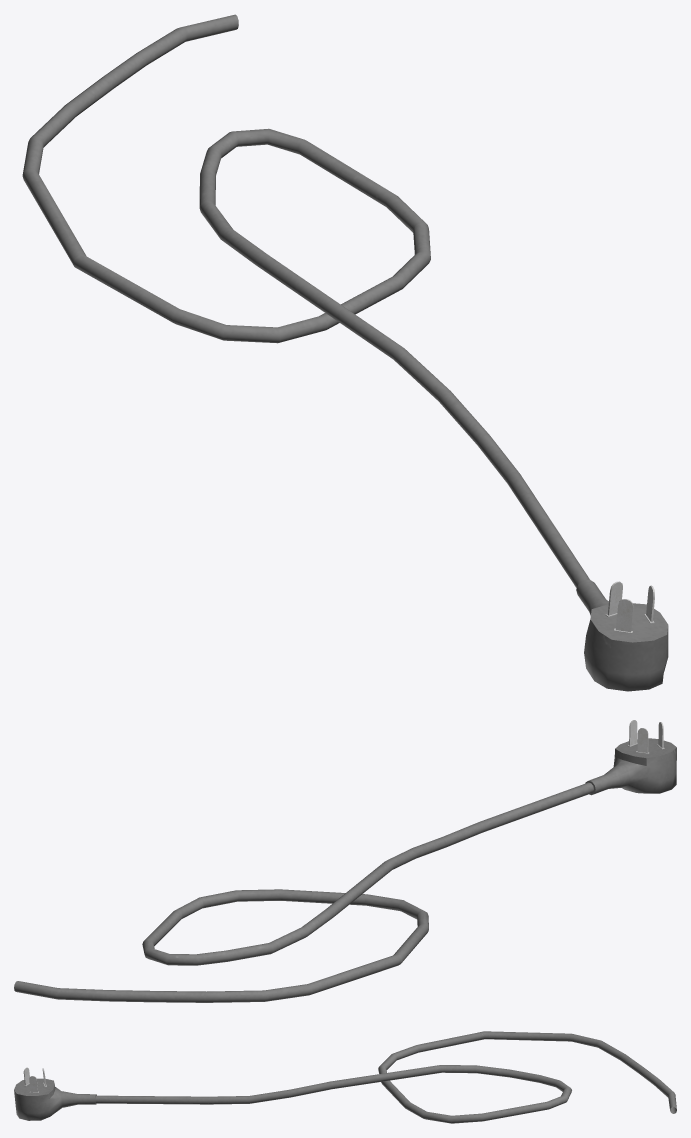
The model's file is SM_微波消解仪插头.FBX.
3 renders of one model, top to bottom at view 1: azimuth 30°, elevation 25°; view 2: azimuth 150°, elevation 25°; view 3: azimuth 270°, elevation 25°, orthographic. The views are drawn at different scales.
Parts seen in each view (by area): view 1: SM_微波消解仪插头; view 2: SM_微波消解仪插头; view 3: SM_微波消解仪插头.
Boxes of the visible parts, box(x1,y1,x2,y2) form: SM_微波消解仪插头: box(22, 14, 668, 691); SM_微波消解仪插头: box(14, 720, 676, 1002); SM_微波消解仪插头: box(14, 1031, 676, 1123).
Size of the model in its own units: 144 by 54.96 by 470.
